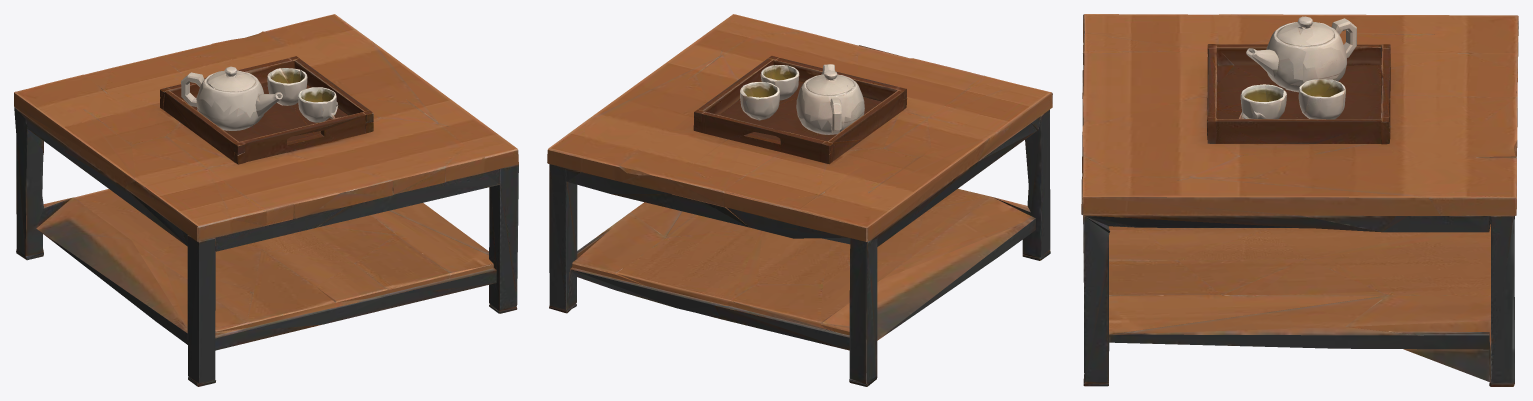
File: model-lounge-redesign-teaTable-a3f55f184b18.glb
3 renders of one model, left to right at view 1: azimuth 30°, elevation 25°; view 2: azimuth 150°, elevation 25°; view 3: azimuth 270°, elevation 25°, orthographic. The views are drawn at different scales.
Visible parts, largest first — view 1: Mesh_0; view 2: Mesh_0; view 3: Mesh_0.
Boxes of the visible parts, x1,y1,x2,y2 form: Mesh_0: [14, 14, 518, 386]; Mesh_0: [547, 14, 1052, 386]; Mesh_0: [1081, 14, 1518, 386].
Size of the model in its own units: 0.6164 by 0.4 by 0.6151.
Materials: 1 (1 with a texture image).
